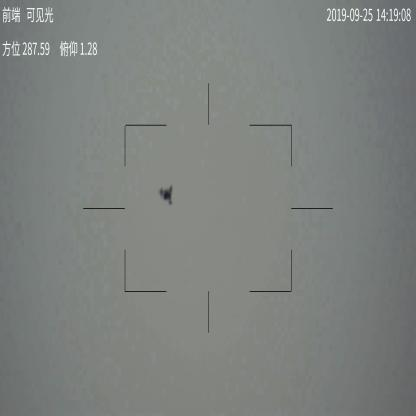uav: (156, 183, 175, 206)
